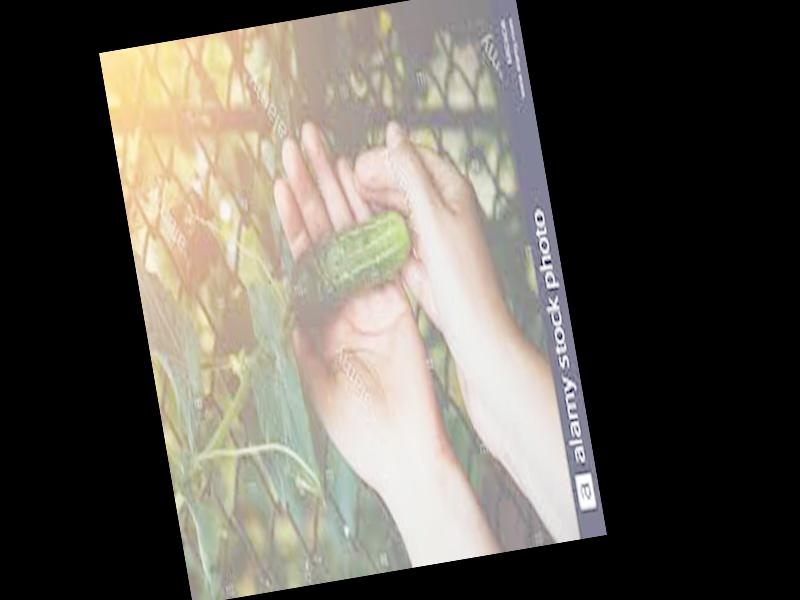Cucumber: (280, 205, 423, 327)
